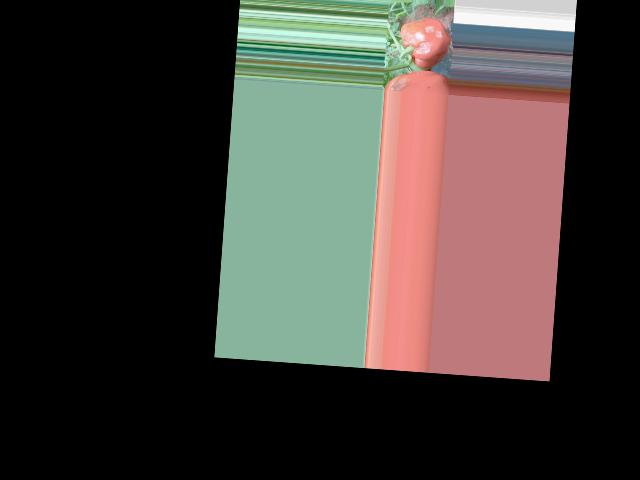bell_pepper: (393, 17, 454, 70)
